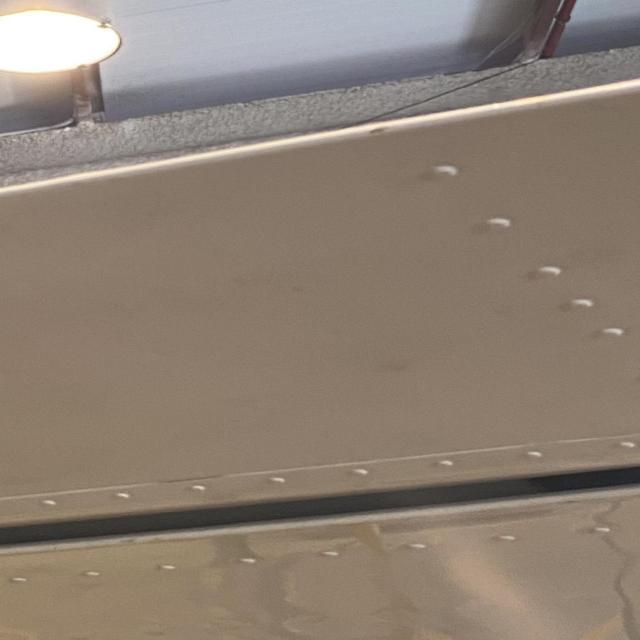Paint-off: (360, 123, 403, 136)
